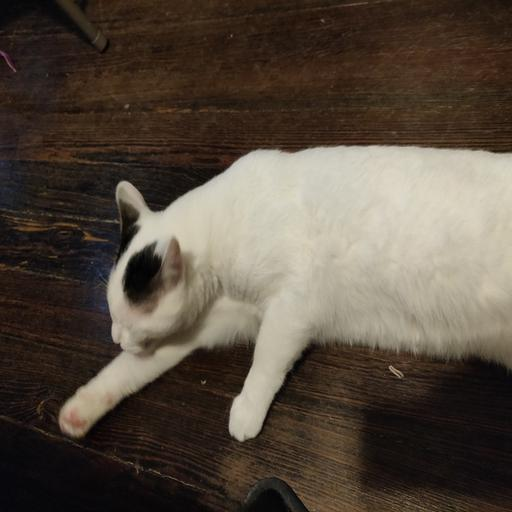cat: (89, 135, 381, 427)
